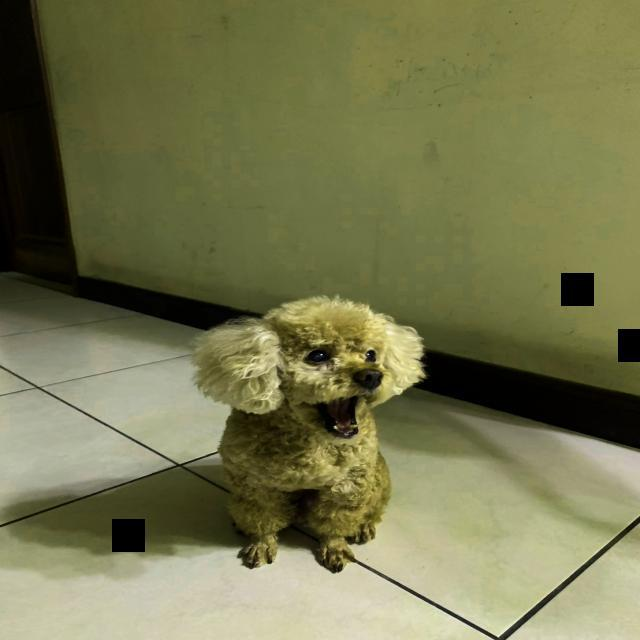puppy-dog: (196, 294, 427, 573)
